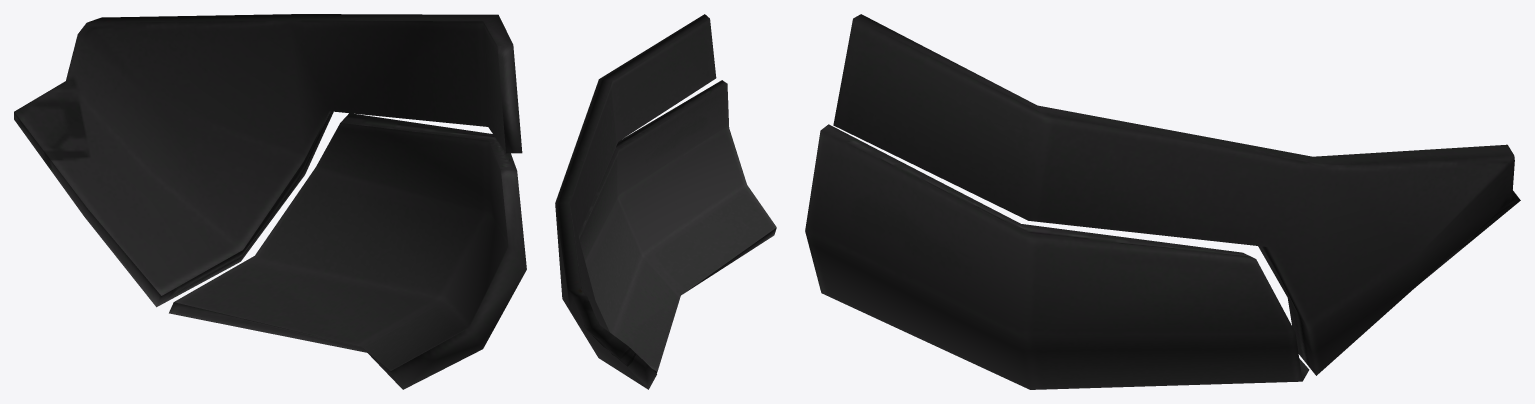
File: pinger_plate_back_right.dae
3 views of the same model, side by side, from view 1: azimuth 30°, elevation 25°; view 2: azimuth 150°, elevation 25°; view 3: azimuth 270°, elevation 25° (orthographic). The views are drawn at different scales.
Parts seen in each view (by area): view 1: pinger_plate_back_right; view 2: pinger_plate_back_right; view 3: pinger_plate_back_right.
Boxes of the visible parts, x1=… form: pinger_plate_back_right: x1=14, y1=14, x2=526, y2=389; pinger_plate_back_right: x1=555, y1=14, x2=776, y2=389; pinger_plate_back_right: x1=805, y1=14, x2=1520, y2=389.
Bounding box in the file's own units: 0.7383 × 1.63 × 1.05.
Materials: 1 (1 with a texture image).
